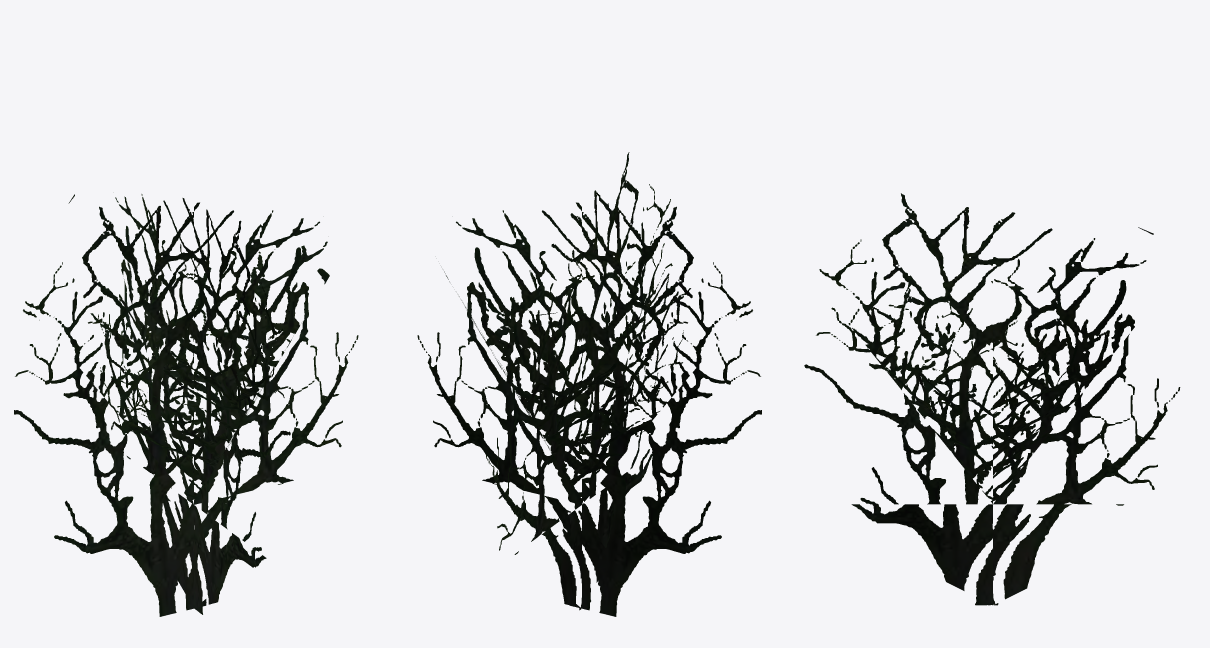
Rendered from OW_LOB_BUSH_V5.glb.
3 renders of one model, left to right at view 1: azimuth 30°, elevation 25°; view 2: azimuth 150°, elevation 25°; view 3: azimuth 270°, elevation 25°, orthographic. The views are drawn at different scales.
Parts seen in each view (by area): view 1: Mesh; view 2: Mesh; view 3: Mesh.
Boxes of the visible parts, bbox=[...] form: Mesh: bbox=[14, 194, 358, 616]; Mesh: bbox=[417, 152, 761, 616]; Mesh: bbox=[804, 193, 1180, 605].
Size of the model in its own units: 1.35 by 1.86 by 1.35.
Materials: 1 (1 with a texture image).
